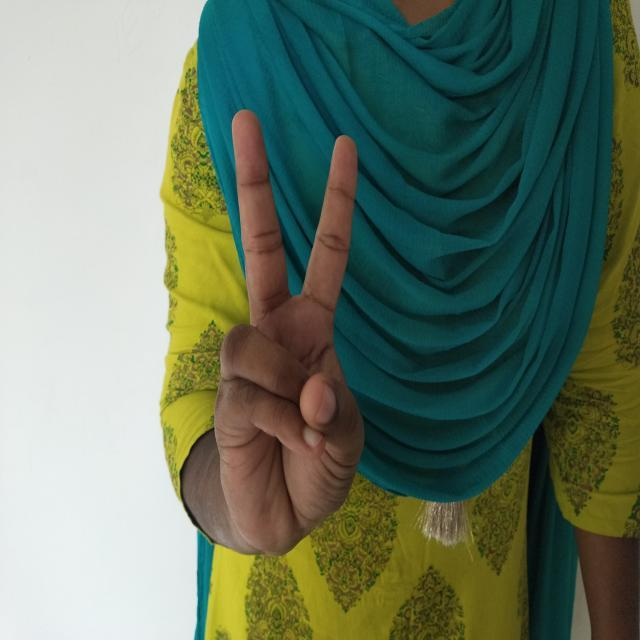V: (182, 103, 374, 578)
